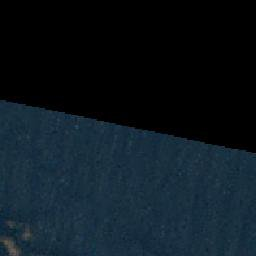debris: (1, 220, 31, 248)
